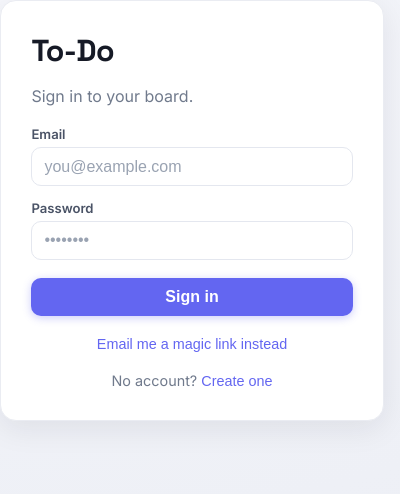
Scenario: Auth › will not request a magic link without a valid email
Click the button "Email me a magic link instead".
click(192, 344)  # box [31,328,353,360]
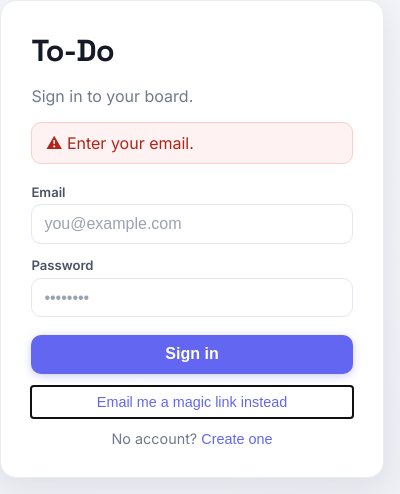
Expected: the text "⚠ Enter your email." is shown, [31,122,353,164]
